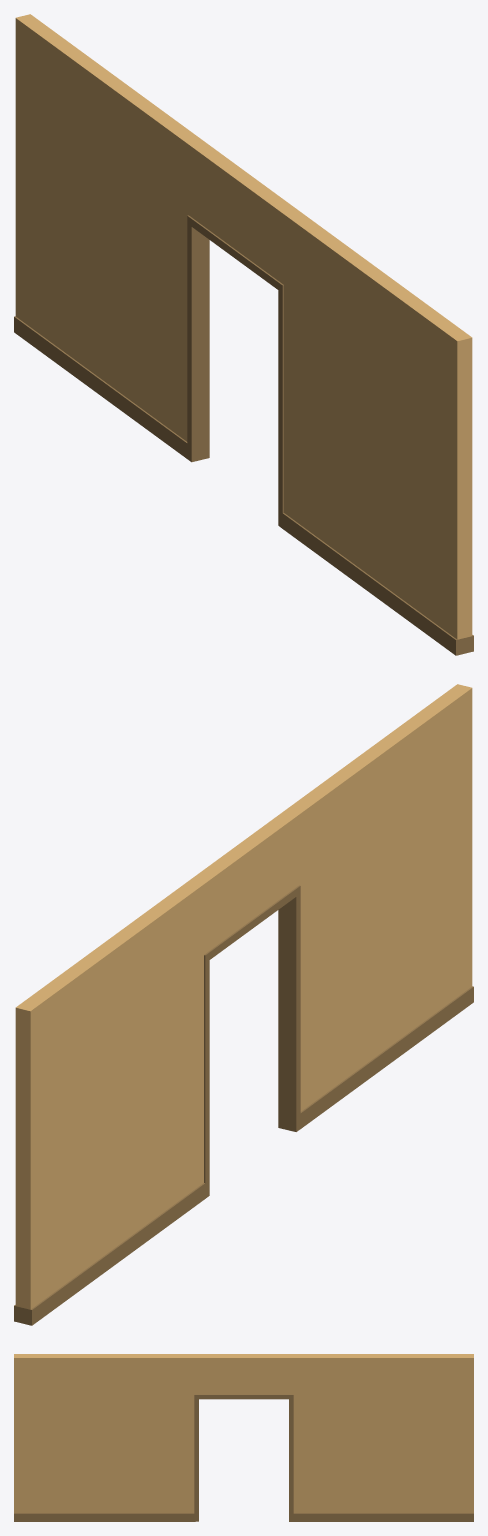
File: WallDoor.fbx
3 renders of one model, top to bottom at view 1: azimuth 30°, elevation 25°; view 2: azimuth 150°, elevation 25°; view 3: azimuth 270°, elevation 25°, orthographic. The views are drawn at different scales.
Visible parts, largest first — view 1: Wall; view 2: Wall; view 3: Wall.
Boxes of the visible parts, <box> form: Wall: <box>14,14,473,655</box>; Wall: <box>14,684,473,1325</box>; Wall: <box>14,1354,473,1521</box>.
Size of the model in its own units: 240 by 4000 by 10200.
